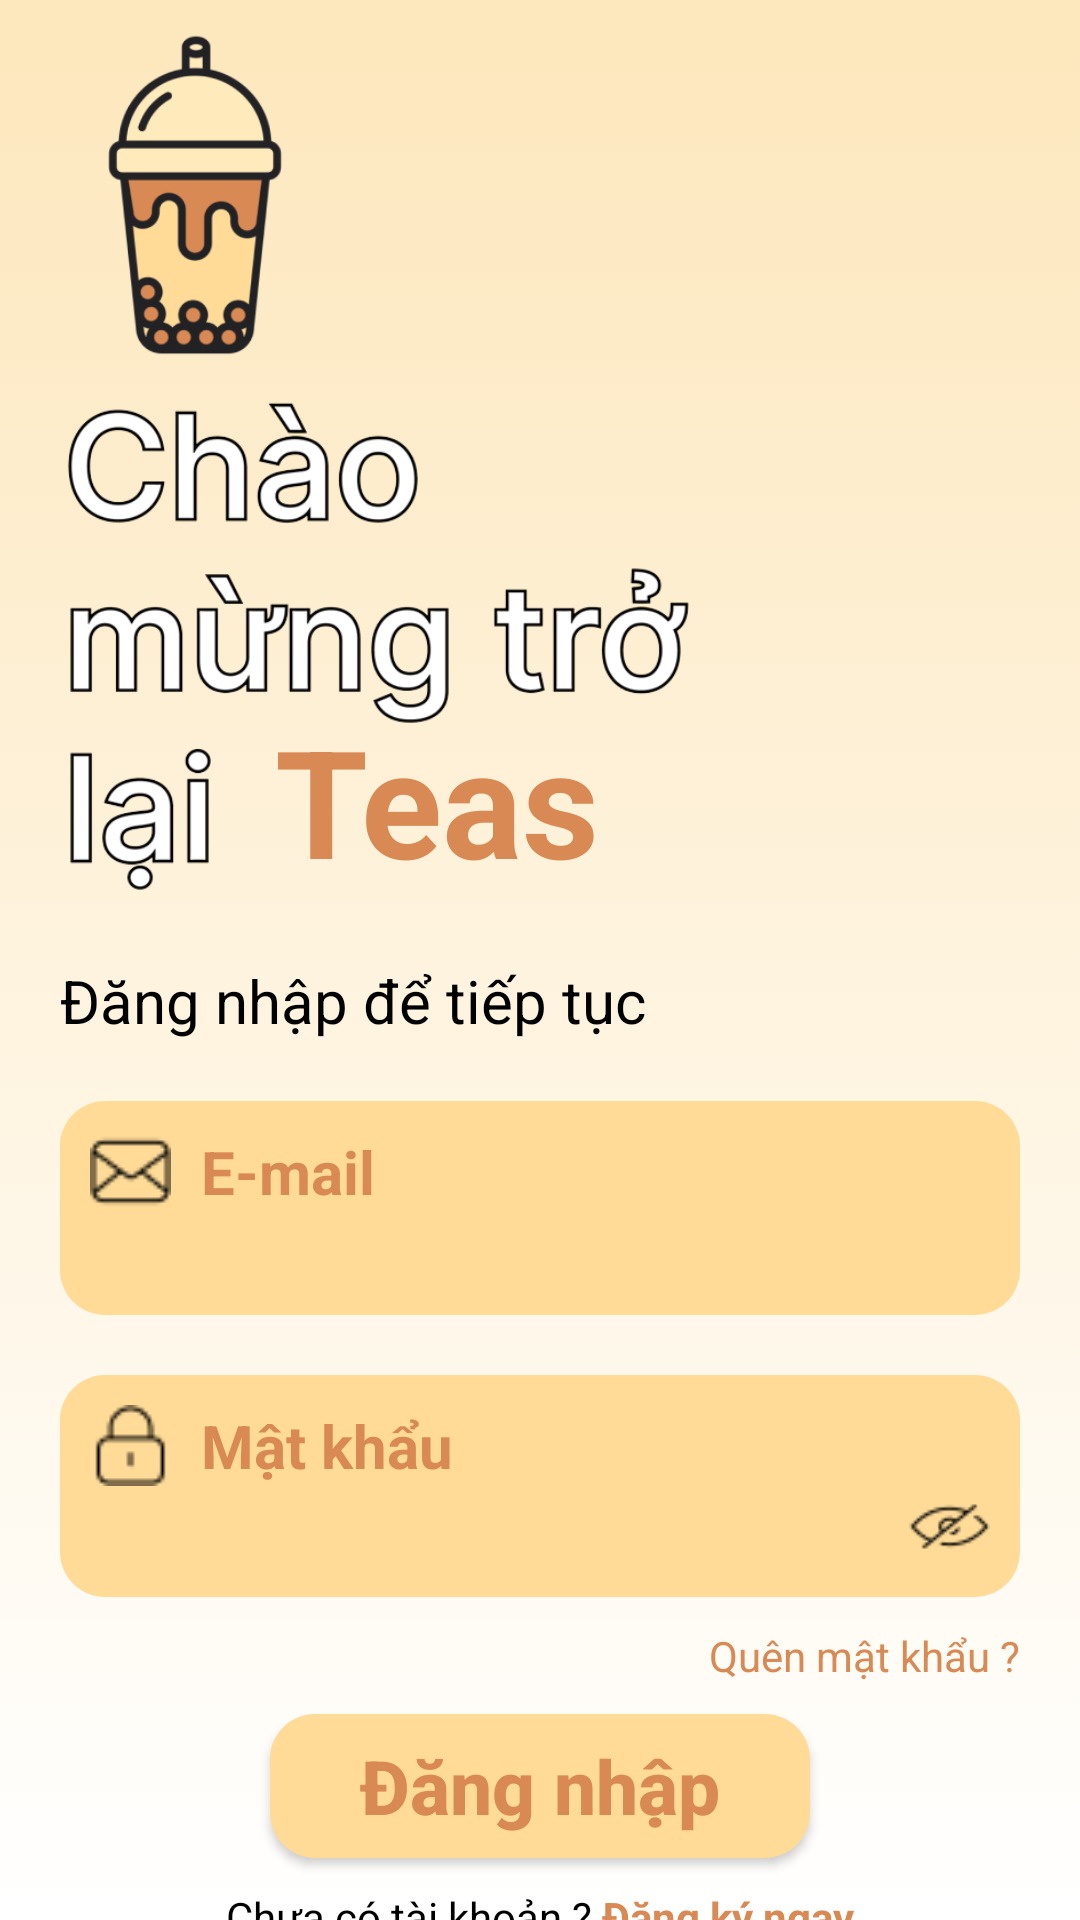

Point at icon controls on the screen. Image size 1080w x 1920h, points as point (x, y).
lock: point (130, 1445)
milktea: point (195, 195)
visibility eye hidden: point (949, 1526)
